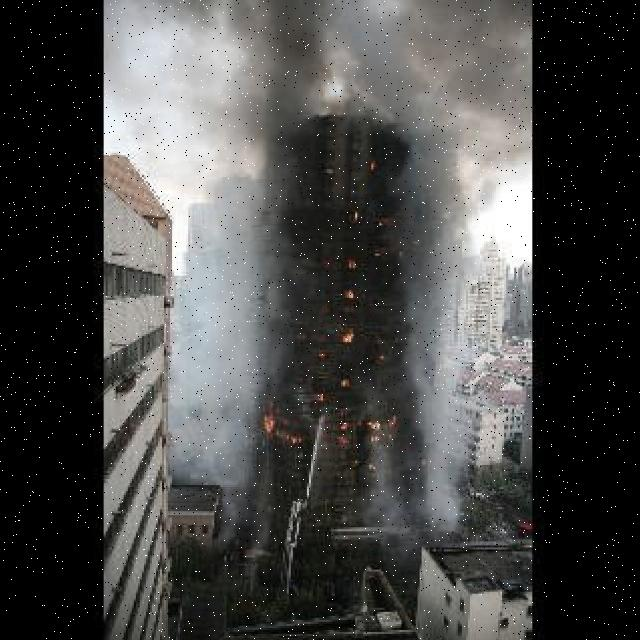fire: (266, 398, 408, 473), (343, 245, 365, 308), (337, 320, 367, 344), (333, 368, 355, 398), (345, 202, 369, 226)
smoke: (408, 0, 541, 535), (178, 2, 333, 419), (357, 440, 416, 549)
